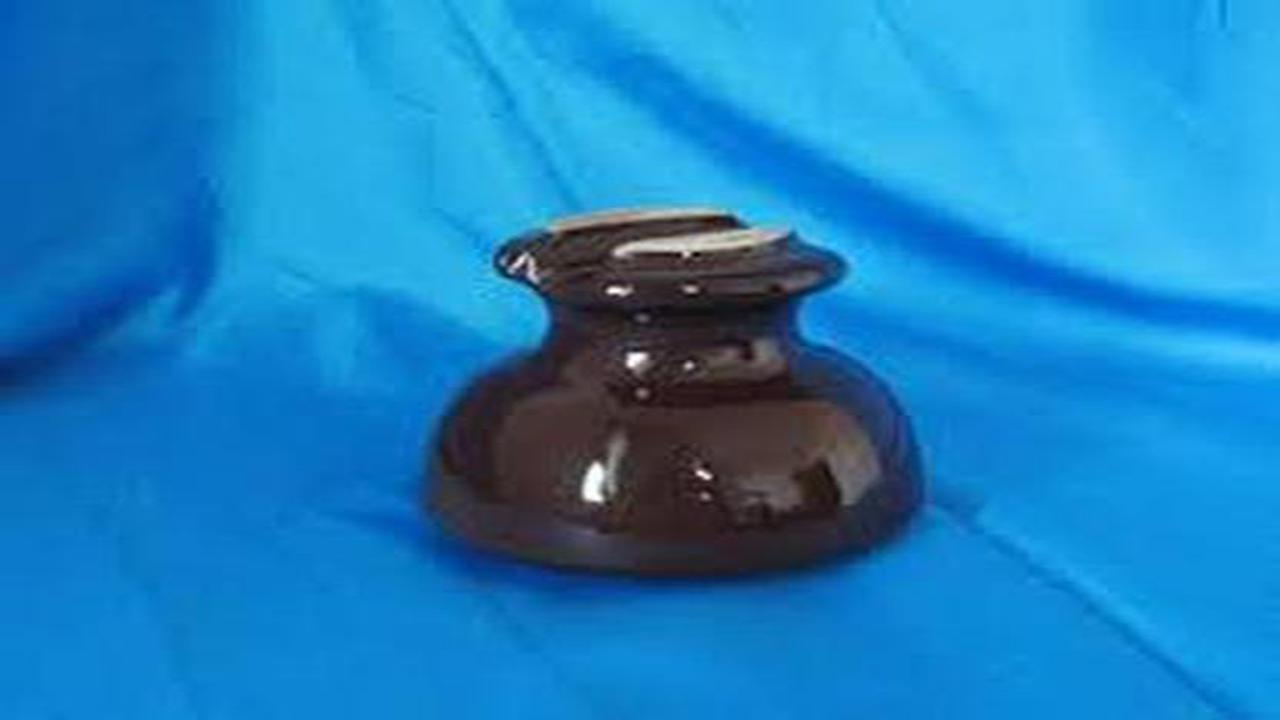insulator_pin: (407, 205, 936, 591)
